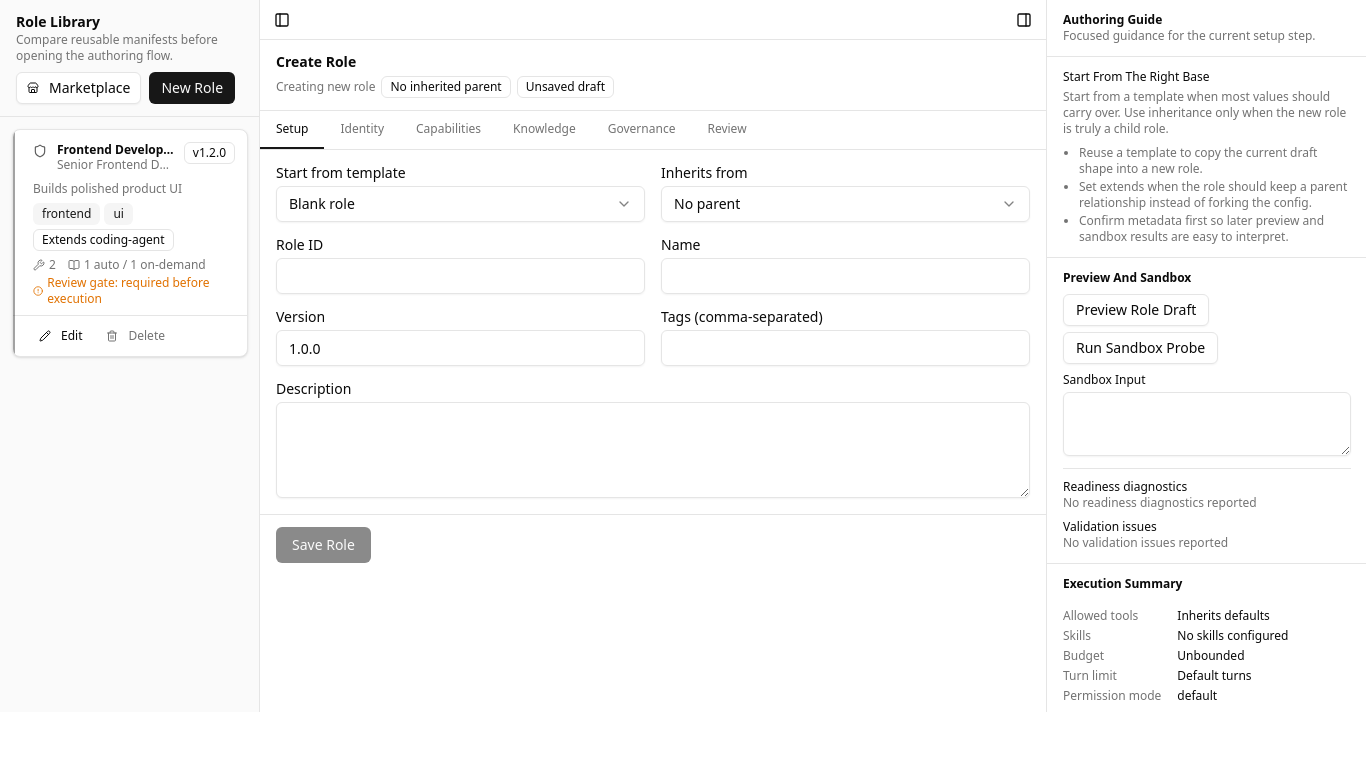
Test case: RoleWorkspace › submits preview and sandbox requests for the current draft and renders their results
The image size is (1366, 768).
Click the button "Preview Role Draft" at (1136, 310), box [1063,294,1209,326]
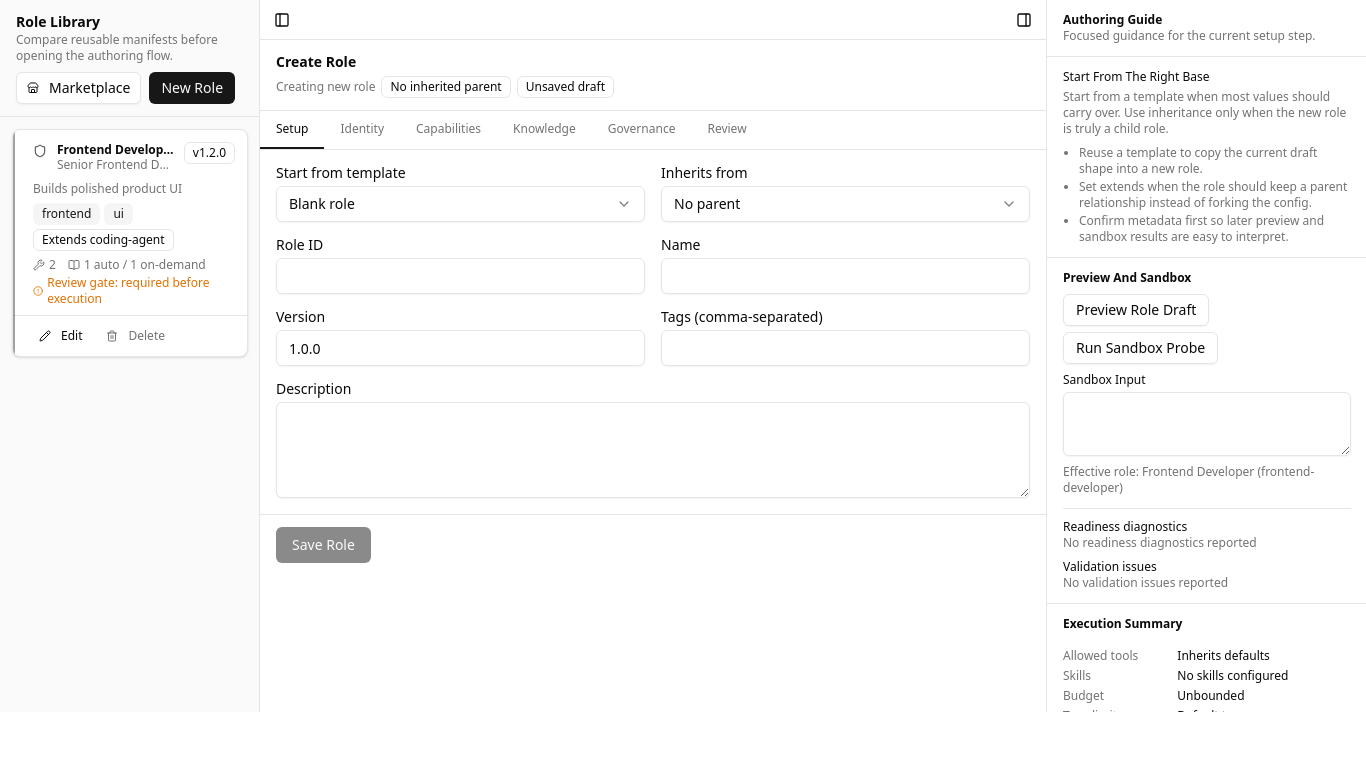
Type "Summarize this role." into the text box labelled "Sandbox Input" at (1207, 424), box [1063,392,1351,456]
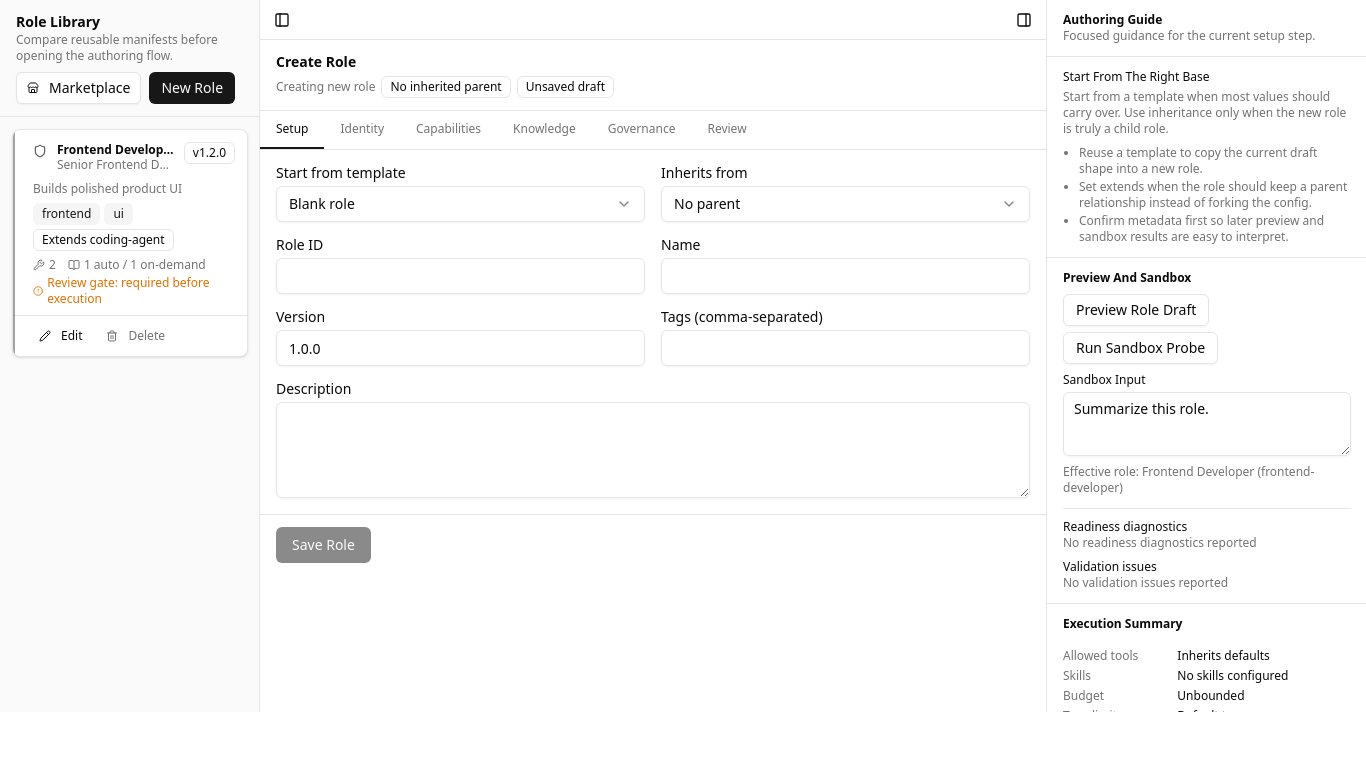
Click the button "Run Sandbox Probe" at (1141, 348), box [1063,332,1218,364]
(page scrolled)
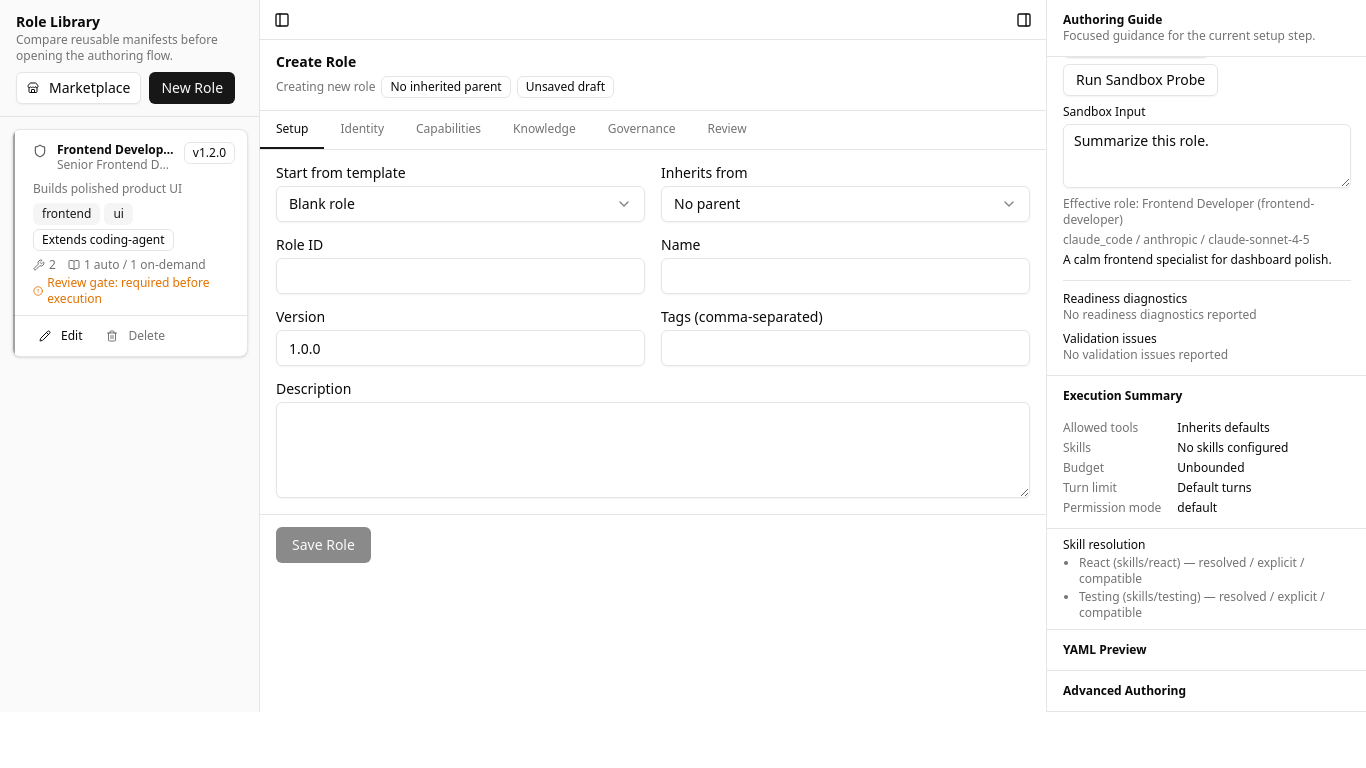
Expected: the text "A calm frontend specialist for dashboard polish." is shown, [1063,252,1351,268]
Expected: the text "claude_code / anthropic / claude-sonnet-4-5" is shown, [1063,232,1351,248]
Expected: the list item "React (skills/react) — resolved / explicit / compatible" is shown, [1079,554,1304,587]
